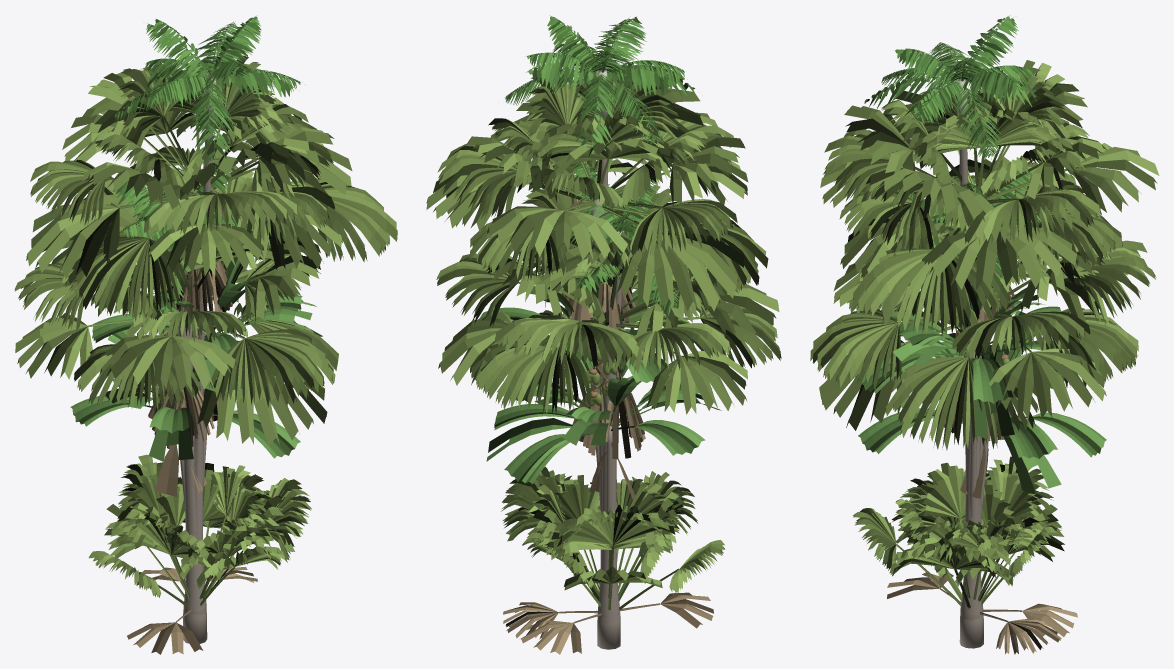
File: endemic_palms.glb
The picture shows the model from 3 angles, left to right: view 1: azimuth 30°, elevation 25°; view 2: azimuth 150°, elevation 25°; view 3: azimuth 270°, elevation 25°; orthographic projection.
Visible parts, largest first — view 1: CocoACrown, CocoACrown_lod, CocoBCrown, CocoBCrown_lod, CocoJ1Crown, PalmACrown, CocoJ1Crown_lod, PalmACrown_lod, CocoJ0Crown, CocoJ0Crown_lod, LatBCrown, LatACrown (+7 smaller); view 2: CocoACrown, CocoBCrown, CocoACrown_lod, CocoBCrown_lod, CocoJ0Crown, PalmACrown, CocoJ1Crown, LatBCrown, PalmACrown_lod, CocoJ0Crown_lod, LatBCrown_lod, CocoJ1Crown_lod (+7 smaller); view 3: CocoACrown, CocoBCrown, CocoACrown_lod, CocoBCrown_lod, CocoJ1Crown, PalmACrown, CocoJ1Crown_lod, CocoJ0Crown, LatBCrown, PalmACrown_lod, LatACrown, CocoJ0Crown_lod (+8 smaller).
Boxes of the visible parts, x1,y1,x2,y2 form: CocoACrown: [30, 55, 397, 323]; CocoACrown_lod: [26, 59, 352, 311]; CocoBCrown: [14, 168, 338, 446]; CocoBCrown_lod: [15, 172, 327, 449]; CocoJ1Crown: [110, 468, 310, 599]; PalmACrown: [112, 17, 300, 141]; CocoJ1Crown_lod: [127, 469, 311, 654]; PalmACrown_lod: [128, 16, 293, 171]; CocoJ0Crown: [88, 454, 285, 606]; CocoJ0Crown_lod: [104, 463, 269, 599]; LatBCrown: [70, 319, 300, 491]; LatACrown: [92, 258, 319, 421]; CocoACrown: [437, 67, 768, 328]; CocoBCrown: [436, 172, 781, 455]; CocoACrown_lod: [426, 72, 748, 329]; CocoBCrown_lod: [438, 187, 779, 459]; CocoJ0Crown: [522, 471, 724, 609]; PalmACrown: [505, 15, 684, 146]; CocoJ1Crown: [501, 466, 686, 639]; LatBCrown: [494, 328, 712, 492]; PalmACrown_lod: [526, 16, 695, 162]; CocoJ0Crown_lod: [520, 477, 685, 654]; LatBCrown_lod: [486, 361, 721, 504]; CocoJ1Crown_lod: [502, 473, 713, 628]; CocoACrown: [823, 60, 1122, 336]; CocoBCrown: [810, 178, 1156, 450]; CocoACrown_lod: [820, 62, 1159, 324]; CocoBCrown_lod: [819, 166, 1127, 430]; CocoJ1Crown: [892, 469, 1061, 654]; PalmACrown: [881, 17, 1034, 165]; CocoJ1Crown_lod: [887, 465, 1046, 601]; CocoJ0Crown: [853, 456, 1061, 605]; LatBCrown: [858, 310, 1106, 498]; PalmACrown_lod: [864, 15, 1055, 122]; LatACrown: [857, 257, 1101, 422]; CocoJ0Crown_lod: [895, 462, 1077, 636].
Size of the model in its own units: 11.67 by 20.94 by 10.72.
